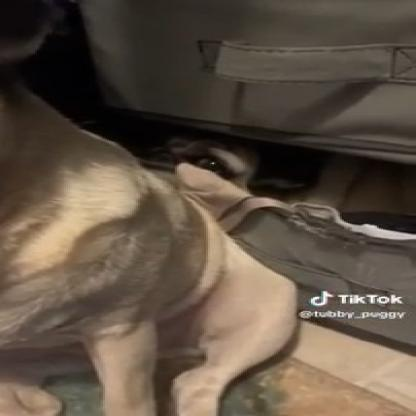dog: (0, 8, 297, 416)
